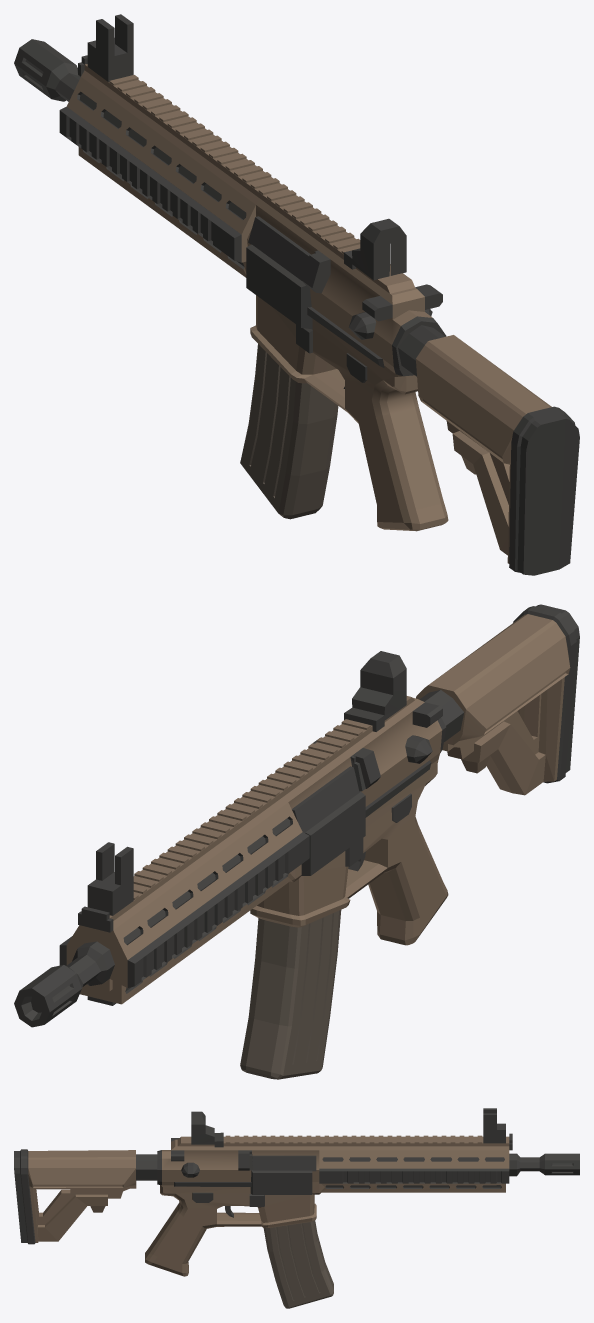
Rendered from Mod_HK419.glb.
The picture shows the model from 3 angles, top to bottom: view 1: azimuth 30°, elevation 25°; view 2: azimuth 150°, elevation 25°; view 3: azimuth 270°, elevation 25°; orthographic projection. The views are drawn at different scales.
Visible parts, largest first — view 1: Mod_HK419; view 2: Mod_HK419; view 3: Mod_HK419.
Part boxes in pixels (x1,y1,x2,y2): Mod_HK419: (14,14,579,575); Mod_HK419: (14,604,579,1079); Mod_HK419: (14,1108,579,1308).
Size of the model in its own units: 0.081 by 0.3497 by 0.9271.
Materials: 1 (1 with a texture image).
